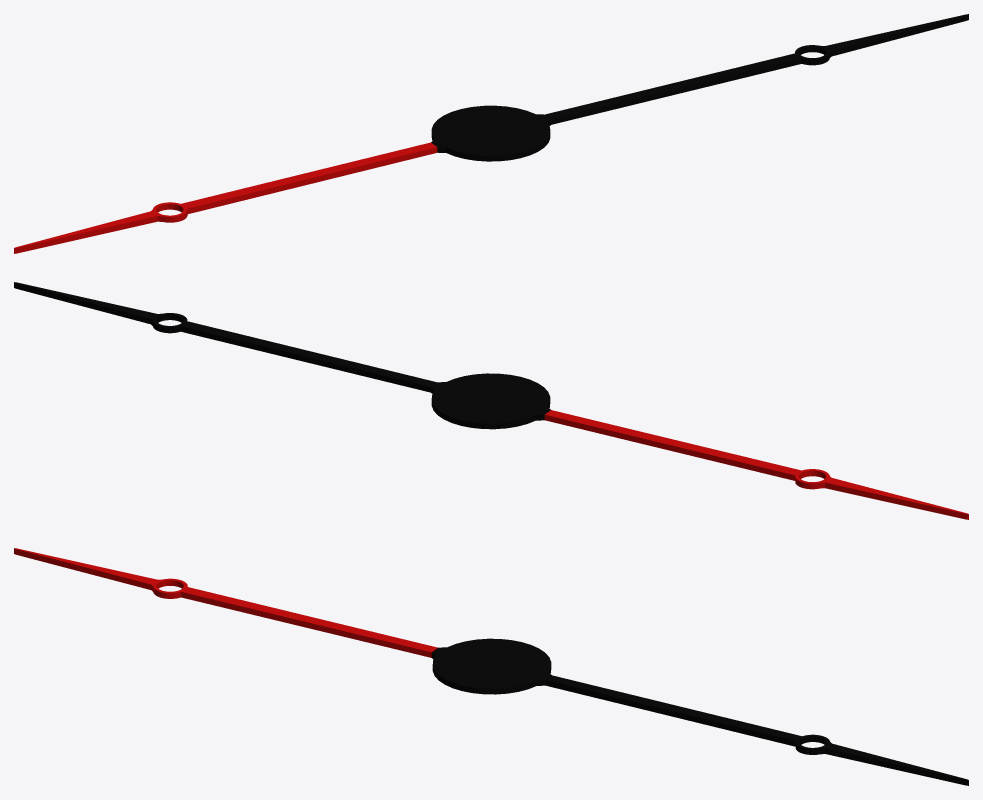
Rendered from 07-Gauge-Pointer.fbx.
The picture shows the model from 3 angles, top to bottom: view 1: azimuth 30°, elevation 25°; view 2: azimuth 150°, elevation 25°; view 3: azimuth 330°, elevation 25°; orthographic projection.
Visible parts, largest first — view 1: 07-Gauge-Pointer; view 2: 07-Gauge-Pointer; view 3: 07-Gauge-Pointer.
Part boxes in pixels (left/top/right/bottom): 07-Gauge-Pointer: left=14, top=14, right=968, bottom=253; 07-Gauge-Pointer: left=14, top=282, right=968, bottom=519; 07-Gauge-Pointer: left=14, top=548, right=968, bottom=785.
Size of the model in its own units: 167 by 0.9442 by 18.03.
